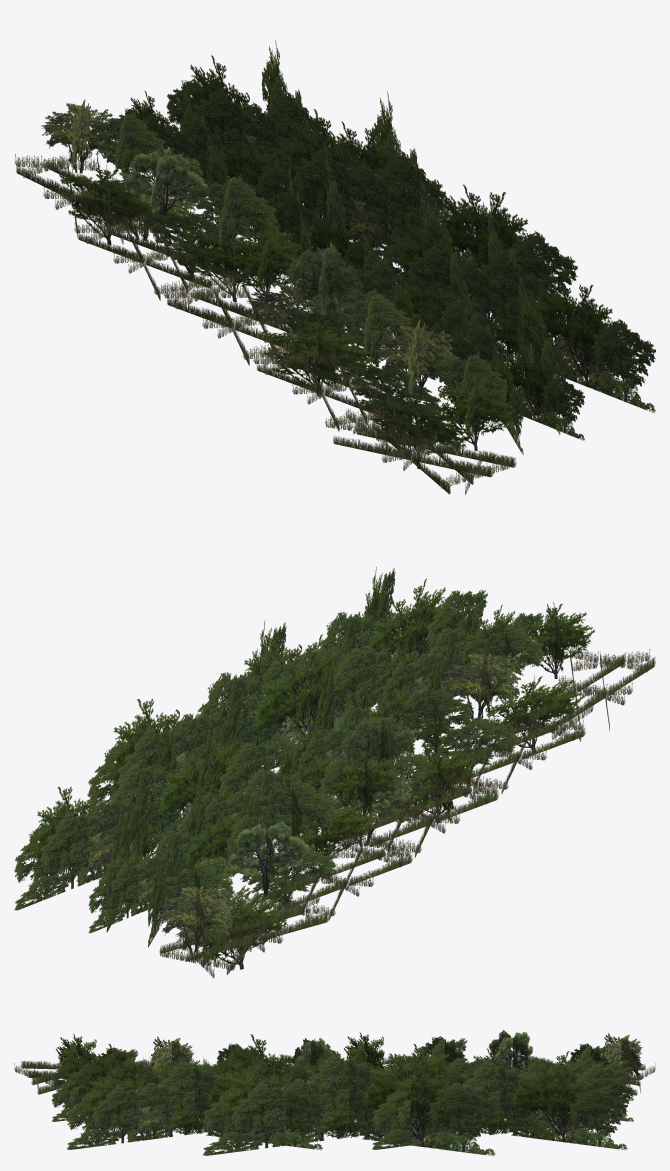
The model's file is v_forest26r.gltf.
3 renders of one model, top to bottom at view 1: azimuth 30°, elevation 25°; view 2: azimuth 150°, elevation 25°; view 3: azimuth 270°, elevation 25°, orthographic. The views are drawn at different scales.
Size of the model in its own units: 43.12 by 24.91 by 116.
1 material, 1 textured.
